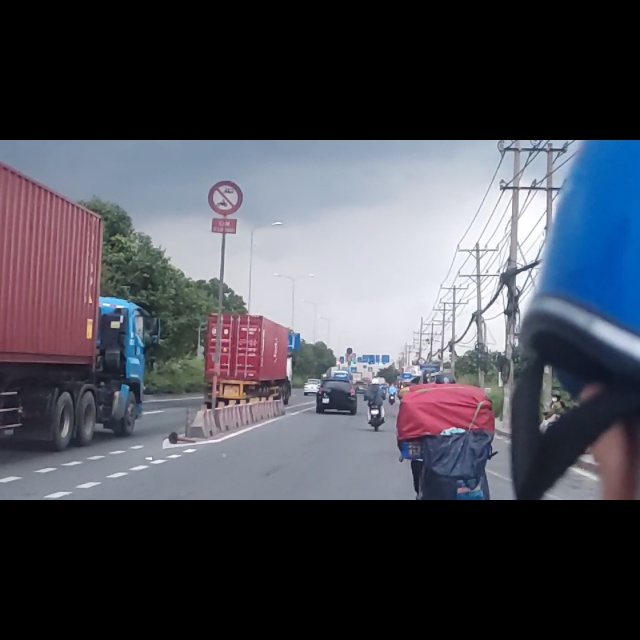bien_hieu_lenh: (208, 71, 243, 133)
